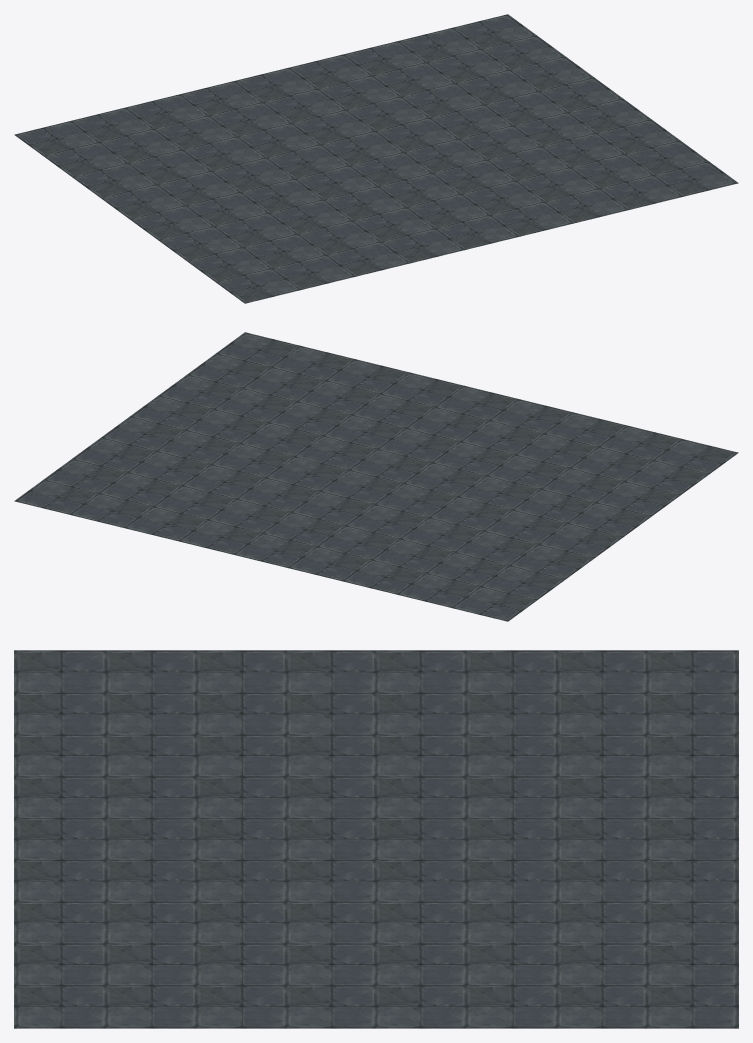
File: jjc_qingzhuan02.FBX
3 views of the same model, one above another, from view 1: azimuth 30°, elevation 25°; view 2: azimuth 150°, elevation 25°; view 3: azimuth 270°, elevation 25° (orthographic). The views are drawn at different scales.
Visible parts, largest first — view 1: jjc_qingzhuan02_001; view 2: jjc_qingzhuan02_001; view 3: jjc_qingzhuan02_001.
Boxes of the visible parts, left/top/right/bottom form: jjc_qingzhuan02_001: left=14, top=14, right=738, bottom=303; jjc_qingzhuan02_001: left=14, top=332, right=738, bottom=621; jjc_qingzhuan02_001: left=14, top=650, right=738, bottom=1028.
Bounding box in the file's own units: 4015 × 0.000492 × 3251.
